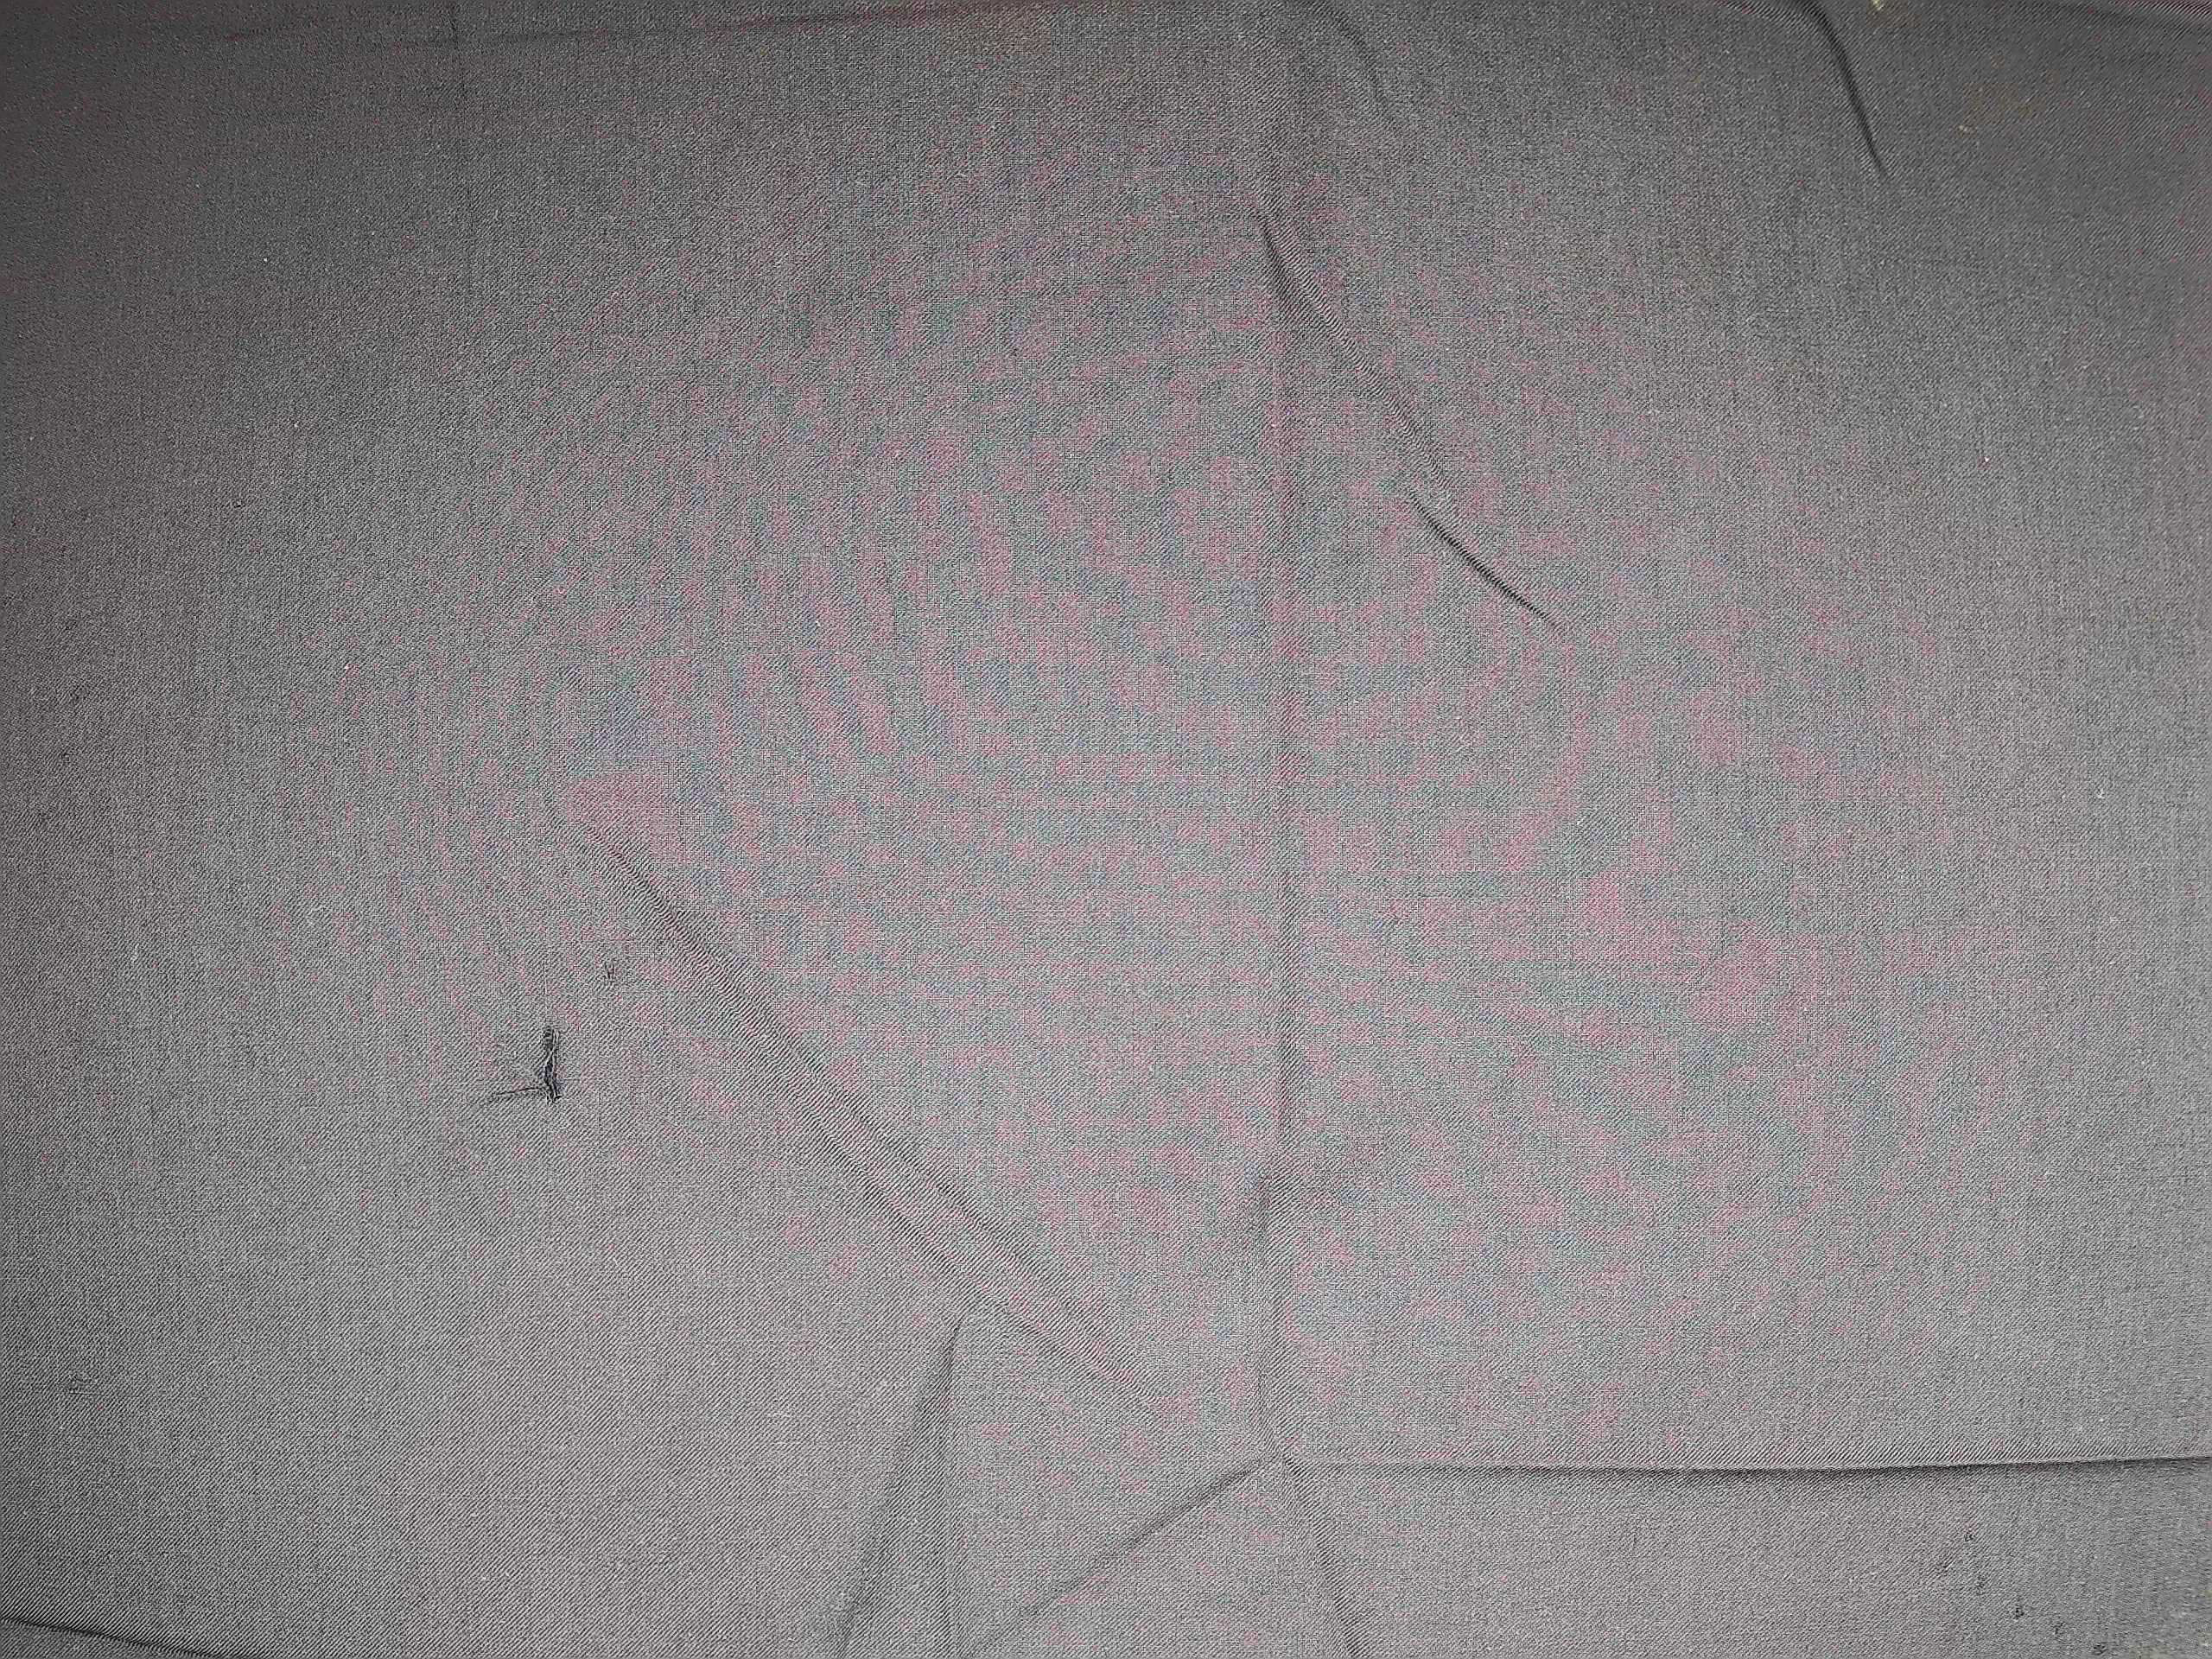rubbing-hole: (526, 1012, 571, 1115), (592, 945, 625, 997)
